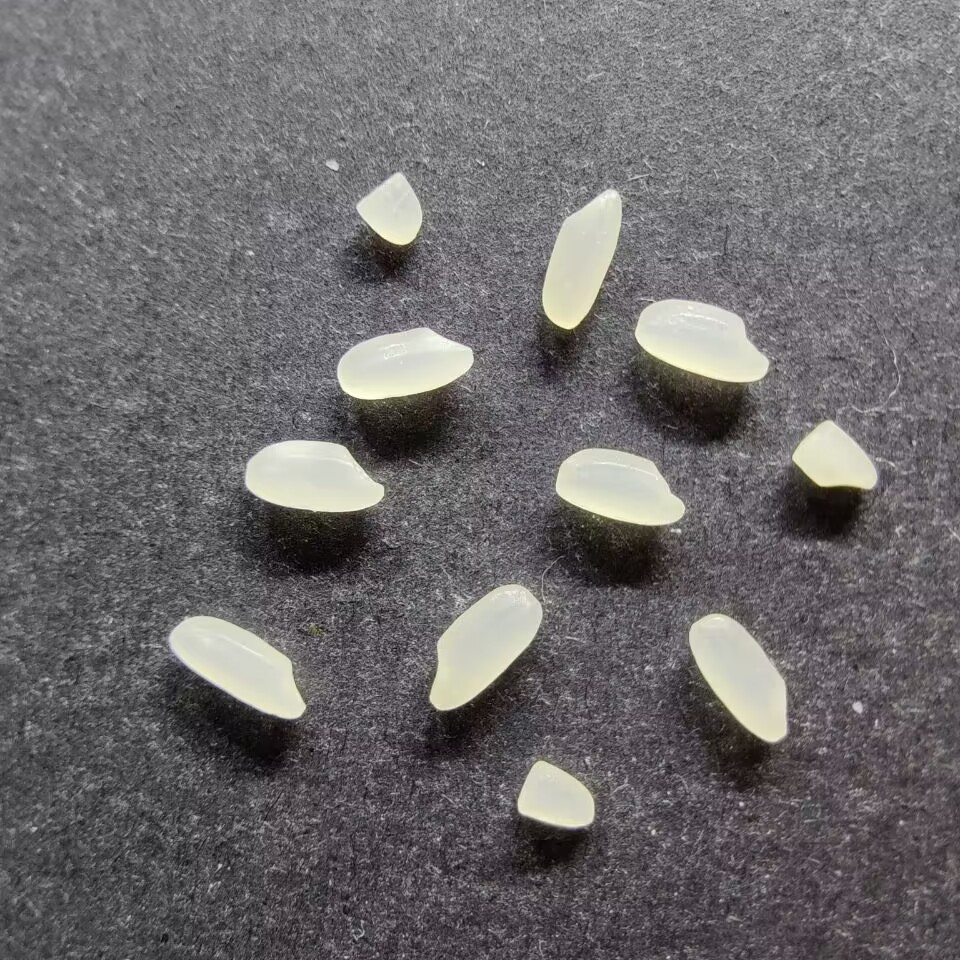broken: (791, 419, 878, 490), (515, 758, 595, 828), (353, 170, 423, 246)
rice: (428, 583, 544, 711), (167, 615, 307, 720), (687, 612, 789, 744), (633, 298, 770, 383), (541, 187, 623, 329), (243, 439, 385, 513), (554, 447, 687, 526), (335, 326, 475, 400)
